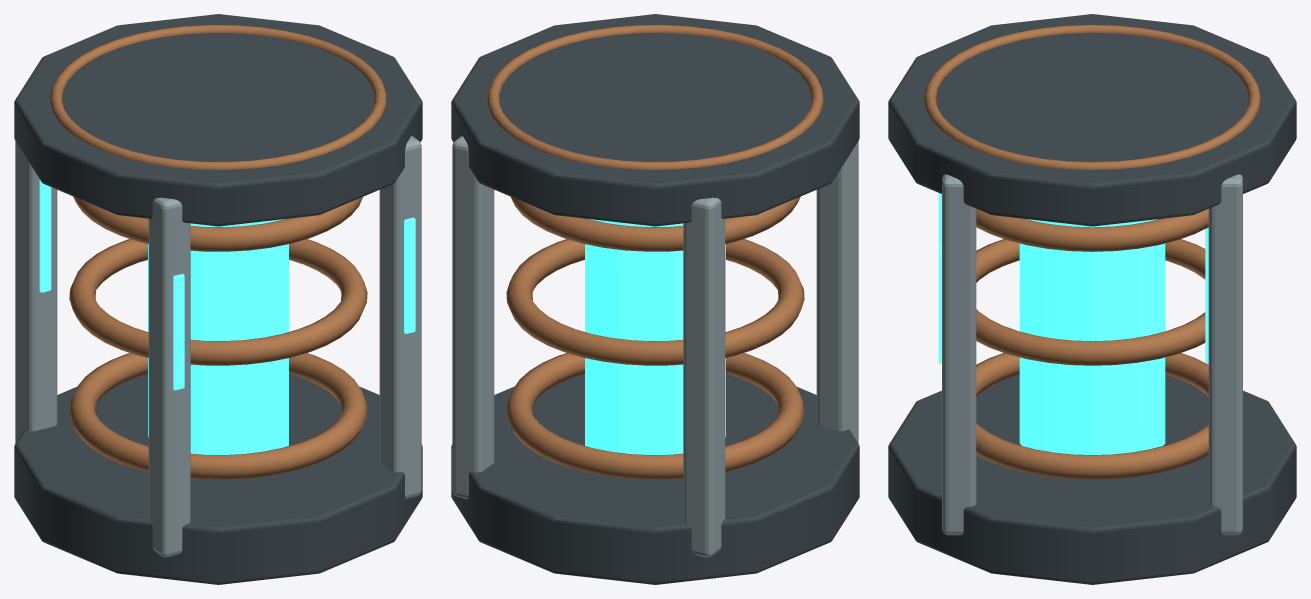
The model's file is AetherRelay.fbx.
The picture shows the model from 3 angles, left to right: view 1: azimuth 30°, elevation 25°; view 2: azimuth 150°, elevation 25°; view 3: azimuth 270°, elevation 25°; orthographic projection.
Visible parts, largest first — view 1: FrameMesh; view 2: FrameMesh; view 3: FrameMesh.
Part boxes in pixels (<box>): FrameMesh: <box>14,14,422,584</box>; FrameMesh: <box>451,14,859,584</box>; FrameMesh: <box>888,14,1296,584</box>.
Size of the model in its own units: 0.78 by 0.856 by 0.78.
